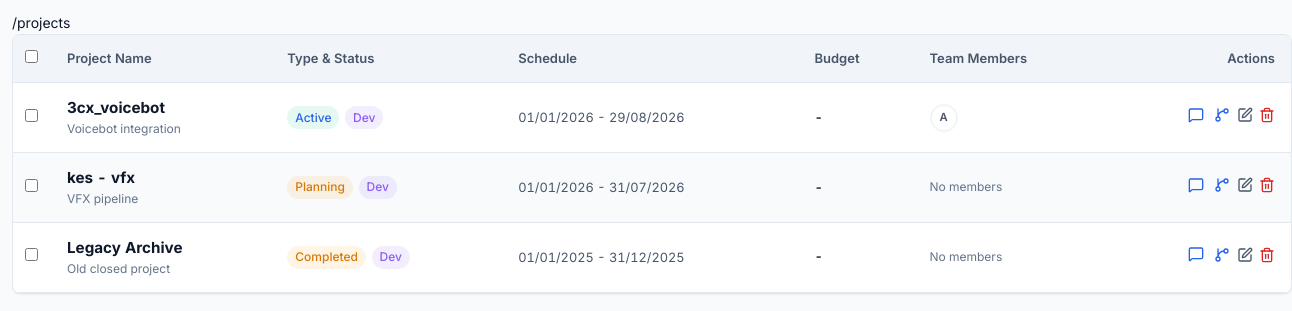
it: ProjectsListView › navigates to /timesheet?projectId=...&action=log when clicking an Active or Planning project row
Click the text "3cx_voicebot". click: (116, 108)
box: [67,98,165,117]
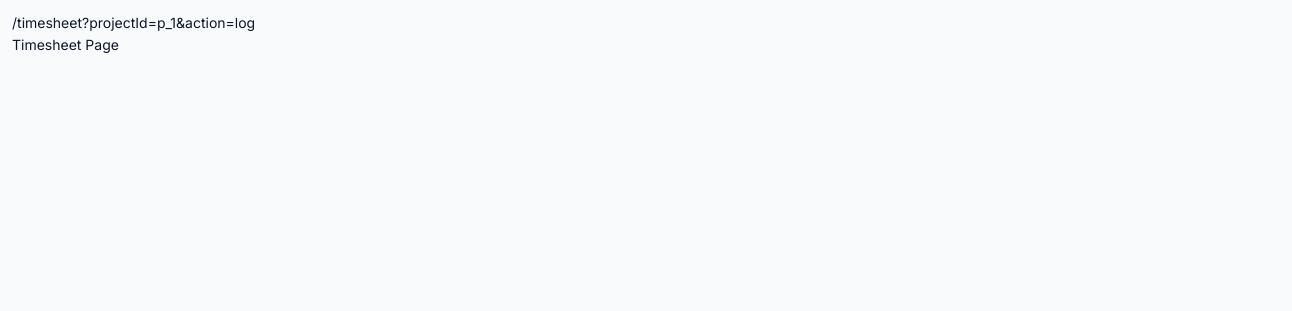
Expected: the text with test id "current-route" reads "/timesheet?projectId=p_1&action=log", [12,14,255,31]
